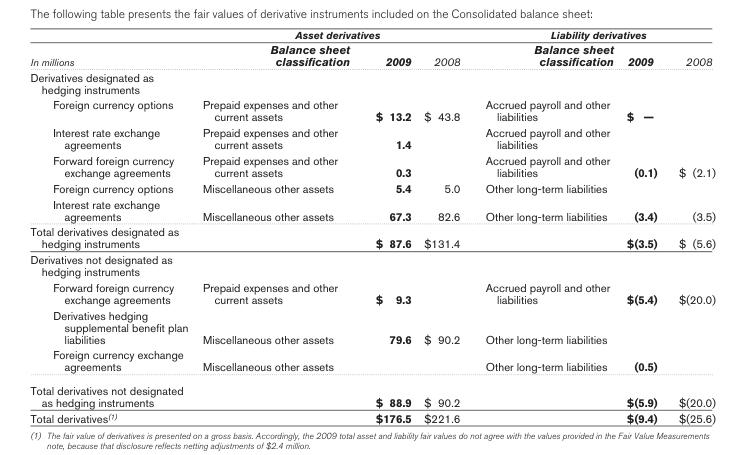table: (29, 28, 714, 424)
table column: (194, 28, 361, 424), (29, 28, 194, 424), (472, 28, 619, 424), (416, 28, 472, 424), (361, 28, 416, 424), (619, 28, 667, 424), (667, 28, 714, 424)
table column header: (29, 28, 714, 68)
table projected row header: (29, 68, 714, 96), (29, 251, 714, 278)
table row: (29, 306, 714, 346), (29, 346, 714, 378), (29, 378, 714, 409), (29, 68, 714, 96), (29, 96, 714, 124), (29, 124, 714, 152), (29, 195, 714, 223), (29, 223, 714, 251), (29, 278, 714, 306), (29, 41, 714, 68), (29, 152, 714, 179), (29, 251, 714, 278), (29, 179, 714, 195), (29, 409, 714, 424), (29, 28, 714, 41)
table spanning cell: (29, 28, 194, 68), (194, 28, 472, 41), (472, 28, 714, 41)
